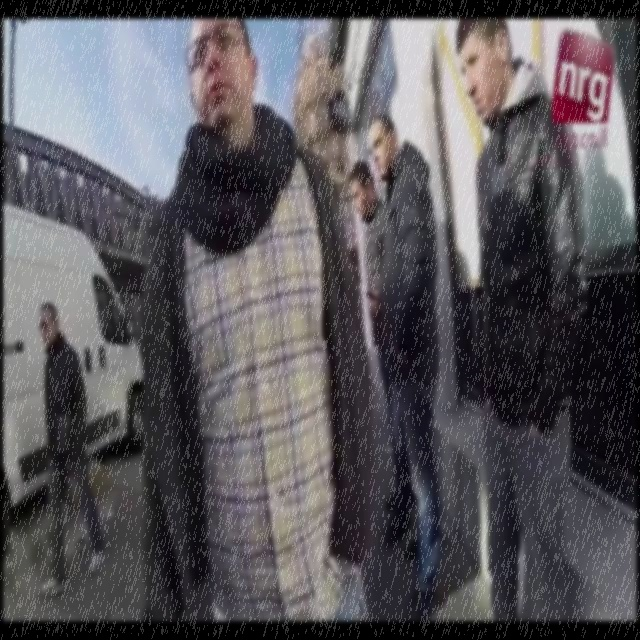pessoa: (138, 16, 369, 622), (448, 8, 600, 639), (368, 111, 448, 624), (348, 159, 415, 549), (36, 299, 110, 601)
